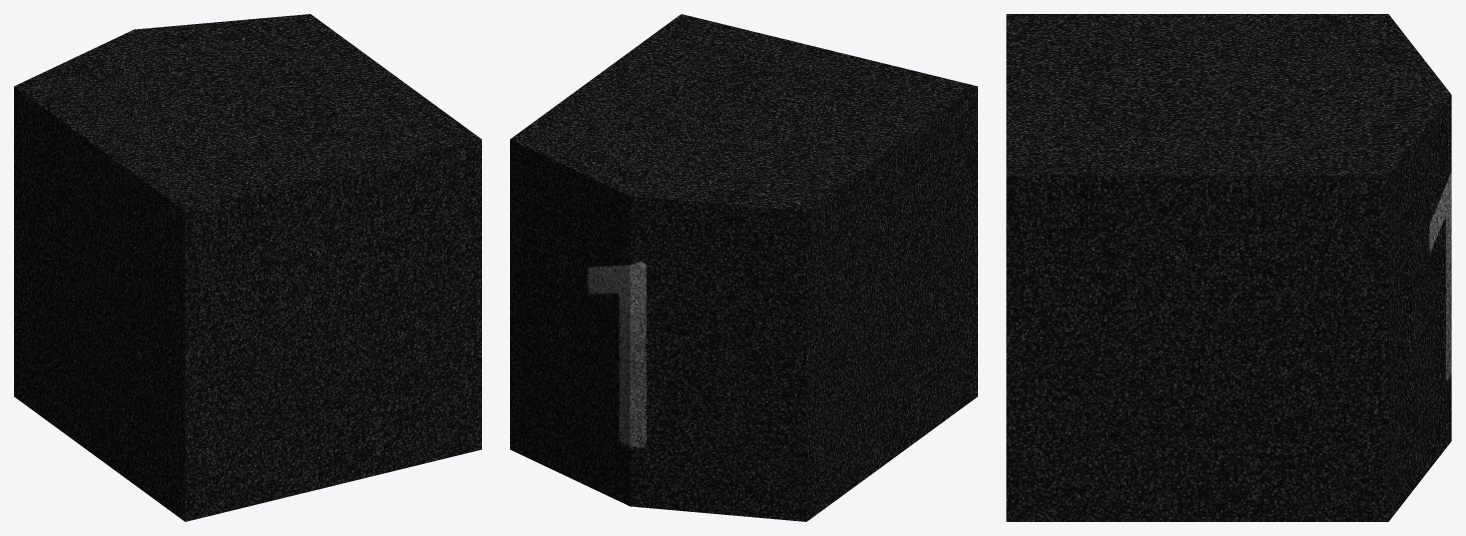
3 views of the same model, side by side, from view 1: azimuth 30°, elevation 25°; view 2: azimuth 150°, elevation 25°; view 3: azimuth 270°, elevation 25° (orthographic). The views are drawn at different scales.
Parts seen in each view (by area): view 1: Cube; view 2: Cube; view 3: Cube.
Part boxes in pixels (x1,y1,x2,y2): Cube: (14, 14, 481, 521); Cube: (510, 14, 977, 521); Cube: (1006, 14, 1451, 521).
Size of the model in its own units: 0.3629 by 0.3629 by 0.4228.
1 material, 1 textured.
